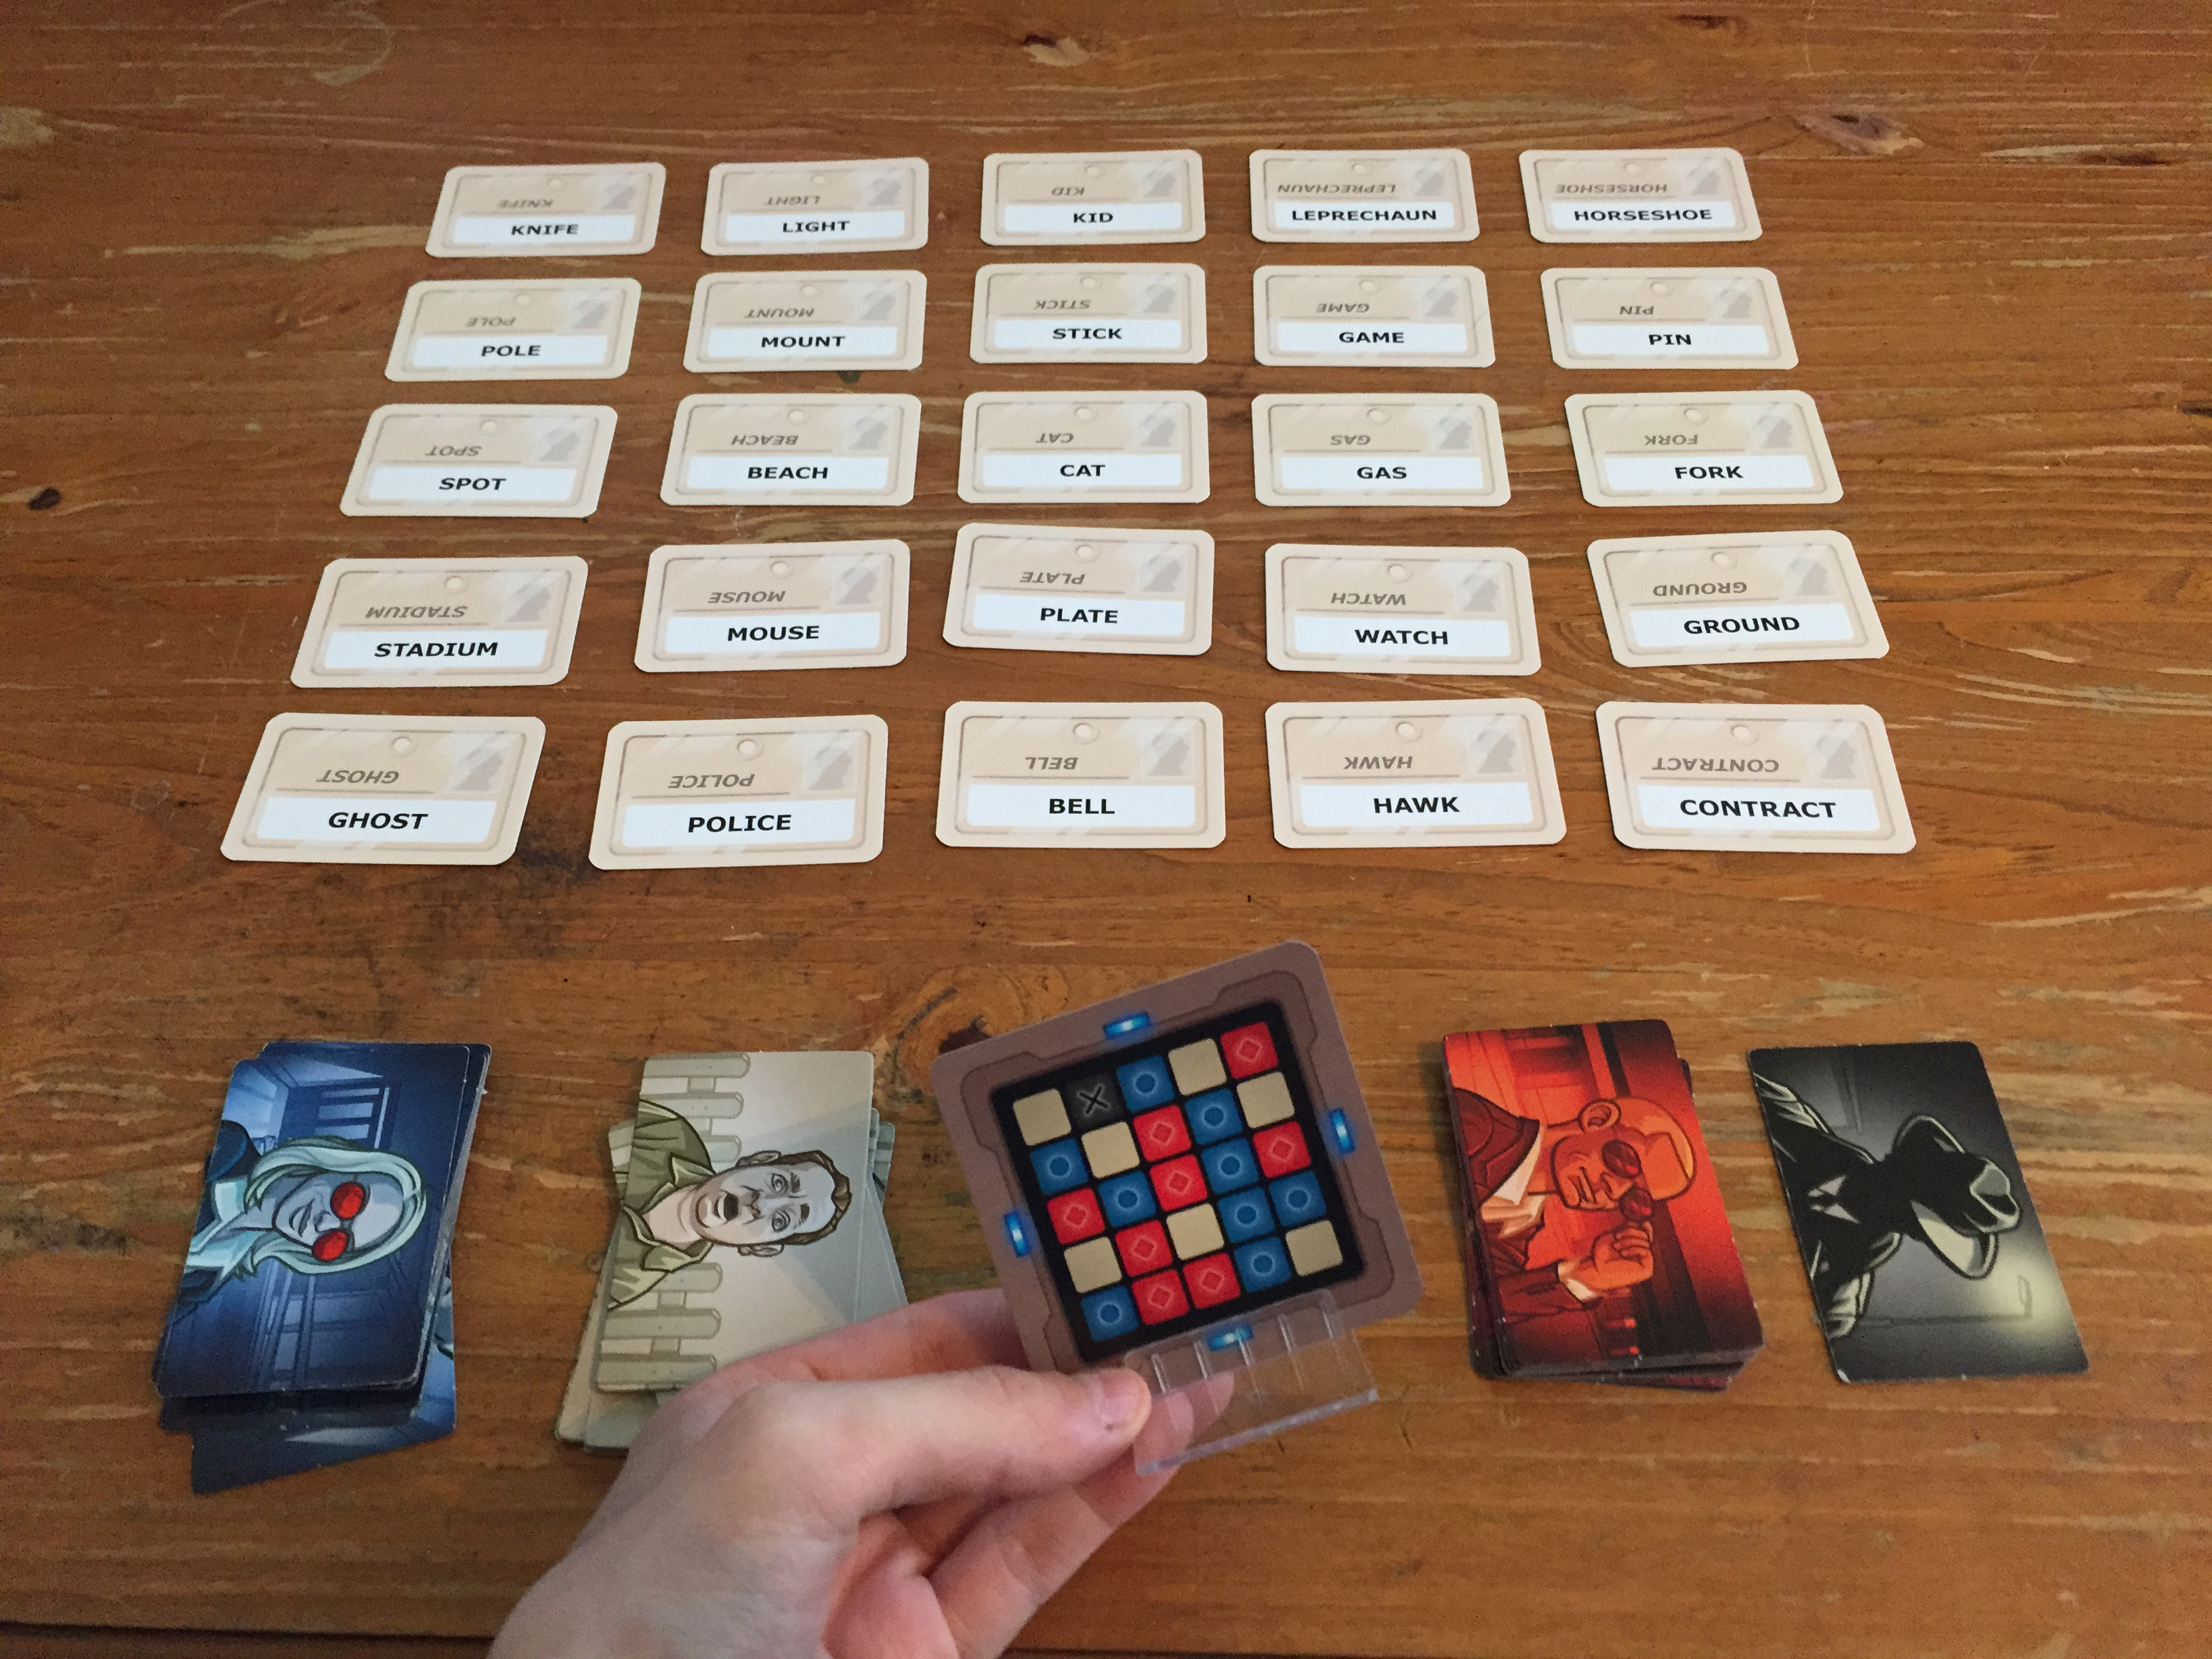A: (1390, 789, 1414, 823), (1069, 603, 1092, 634), (401, 638, 428, 662), (1778, 798, 1803, 824), (1075, 457, 1096, 486), (1378, 622, 1397, 653), (1371, 460, 1393, 486), (777, 460, 796, 486), (1388, 204, 1406, 227), (1353, 326, 1371, 347)
